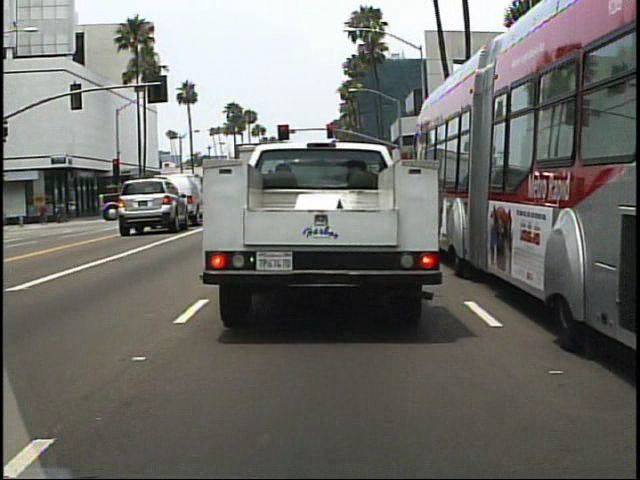person: (37, 196, 51, 224)
